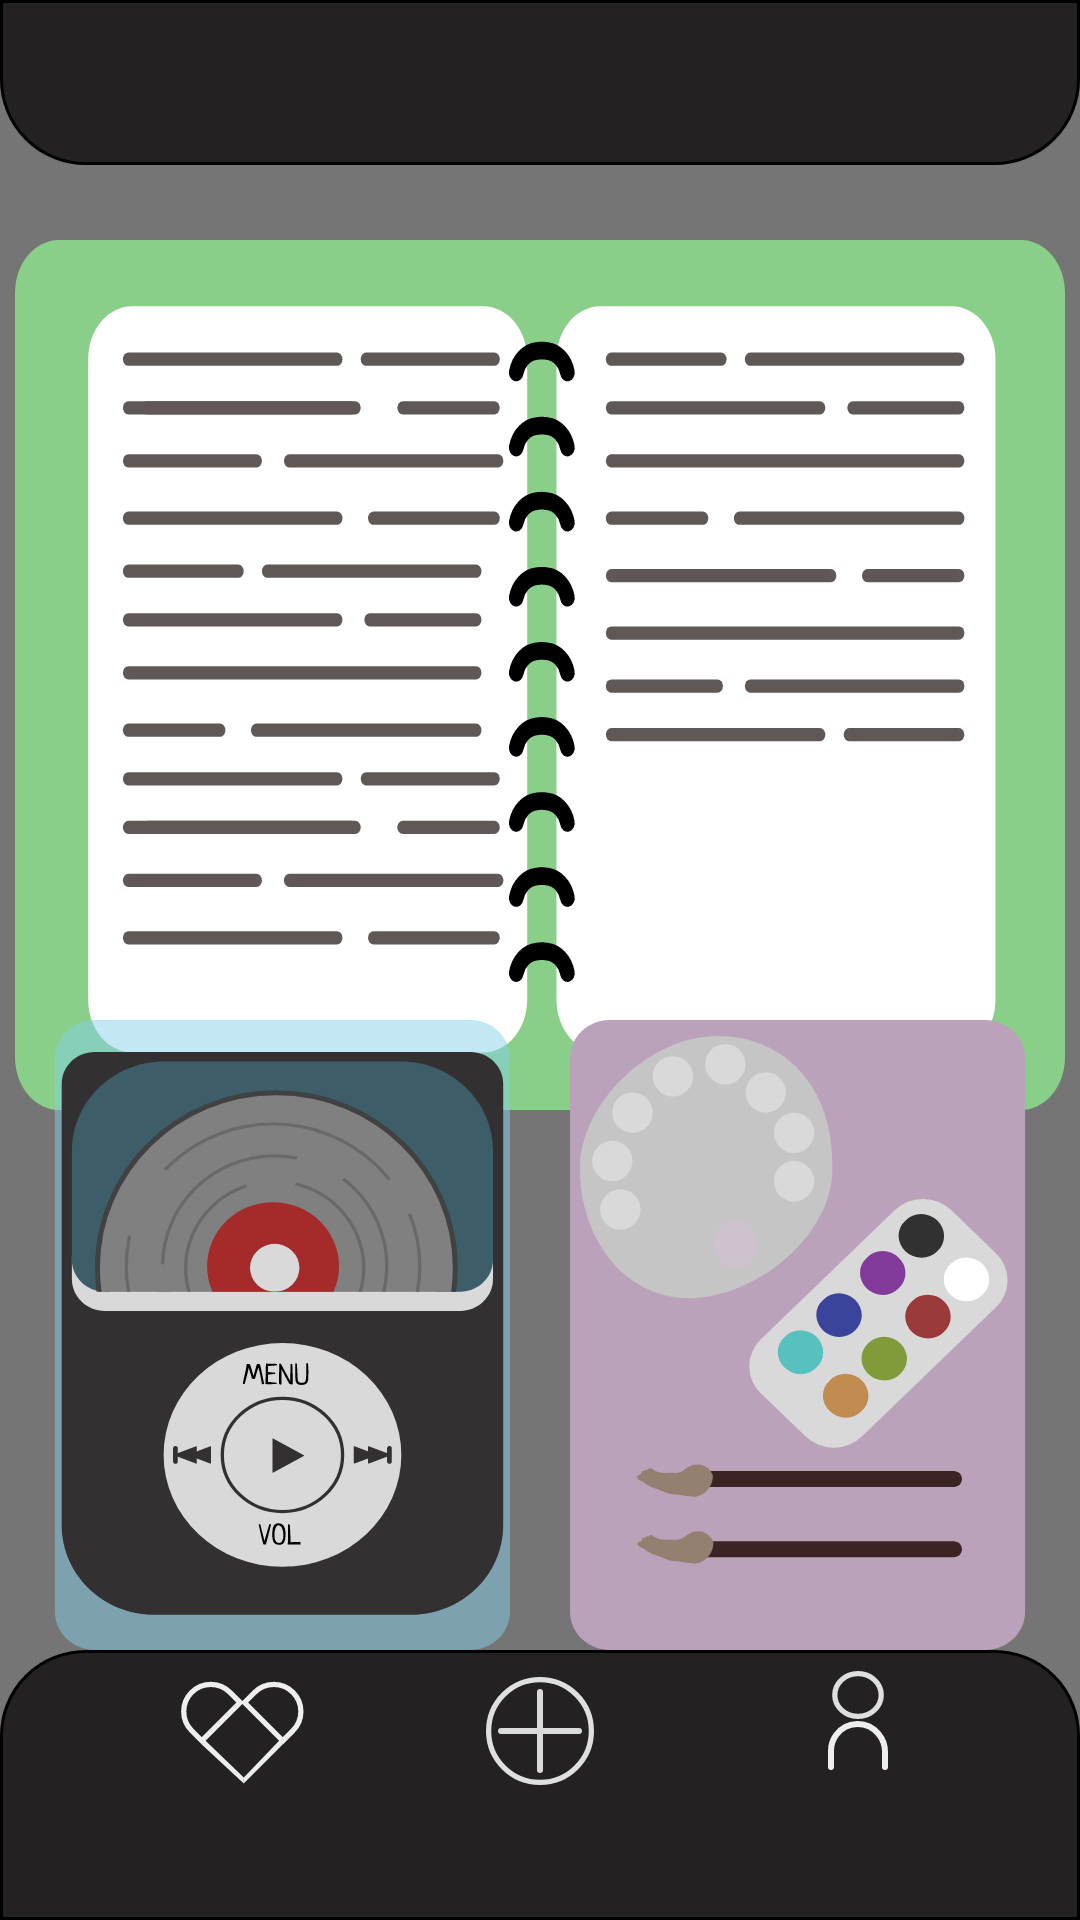

Where icons sit on this 1080px×1920px app screen, as (x1, y1, x2, y2):
chelovechek: (828, 1671, 888, 1770)
plusik: (486, 1677, 594, 1785)
